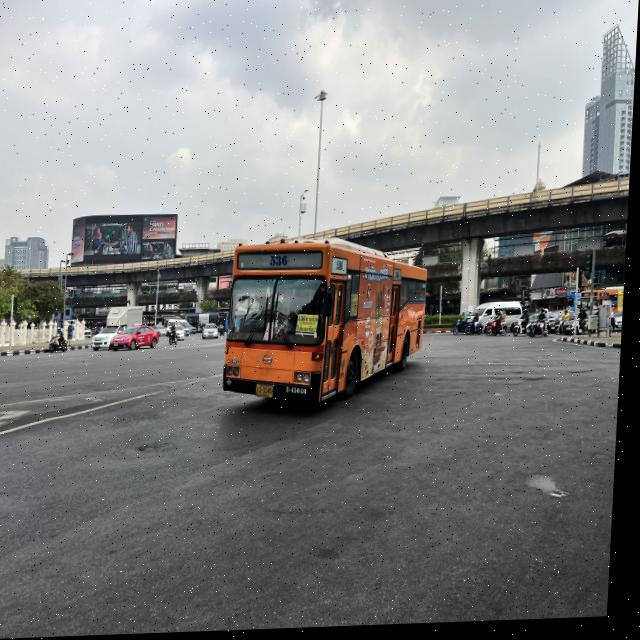BMTA-bus: (225, 238, 433, 414)
Bus-Line-Number: (270, 252, 294, 272)
Destination-Sign-Normal-Expressway: (300, 317, 322, 336)
